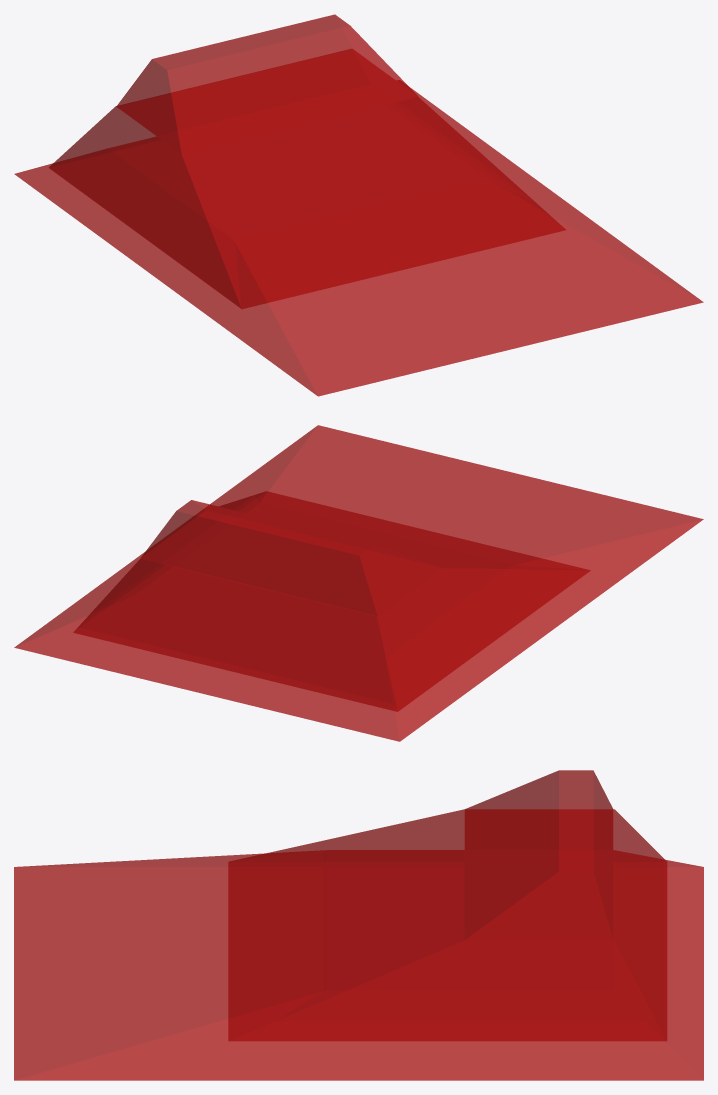
File: SM_Prop_Ramp_Dirt_01_Collision.fbx
3 renders of one model, top to bottom at view 1: azimuth 30°, elevation 25°; view 2: azimuth 150°, elevation 25°; view 3: azimuth 270°, elevation 25°, orthographic. The views are drawn at different scales.
Parts seen in each view (by area): view 1: SM_Prop_Ramp_Dirt_01_Collision; view 2: SM_Prop_Ramp_Dirt_01_Collision; view 3: SM_Prop_Ramp_Dirt_01_Collision.
Boxes of the visible parts, x1,y1,x2,y2 form: SM_Prop_Ramp_Dirt_01_Collision: (14, 14, 703, 396); SM_Prop_Ramp_Dirt_01_Collision: (14, 425, 703, 741); SM_Prop_Ramp_Dirt_01_Collision: (14, 770, 703, 1080).
Size of the model in its own units: 1010 by 322 by 1379.
